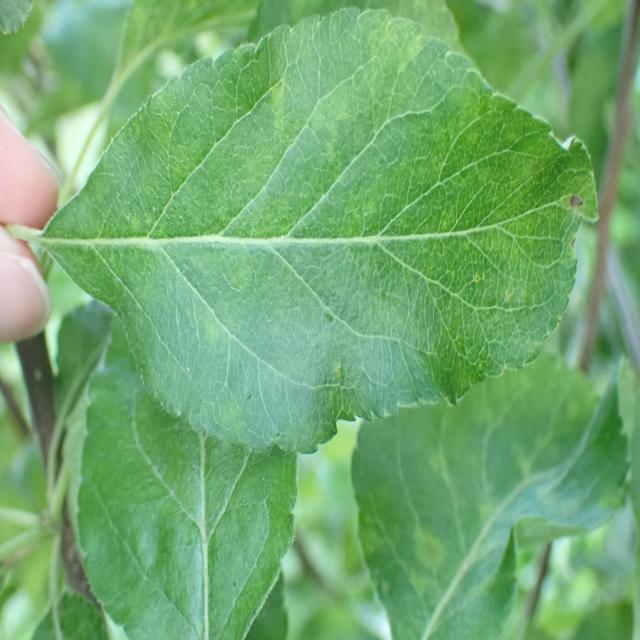scab: (80, 73, 592, 381), (362, 398, 571, 629)
